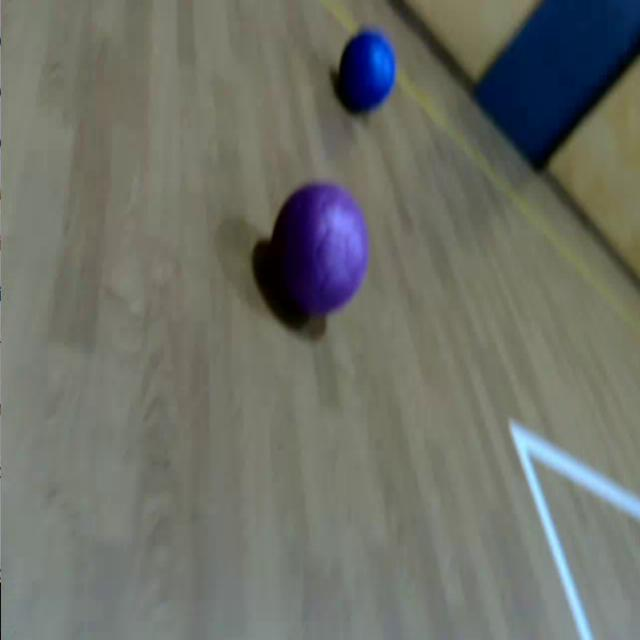blue_ball: (340, 26, 397, 108)
purple_ball: (273, 182, 369, 310)
